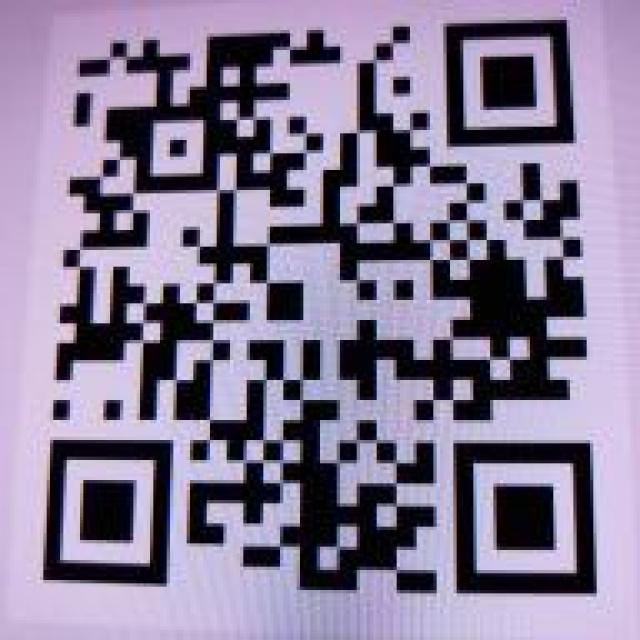QR_CODE: (29, 6, 614, 606)
